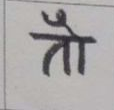au_matra: (46, 10, 92, 72)
